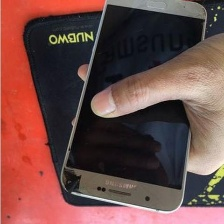phone: (56, 0, 211, 215)
